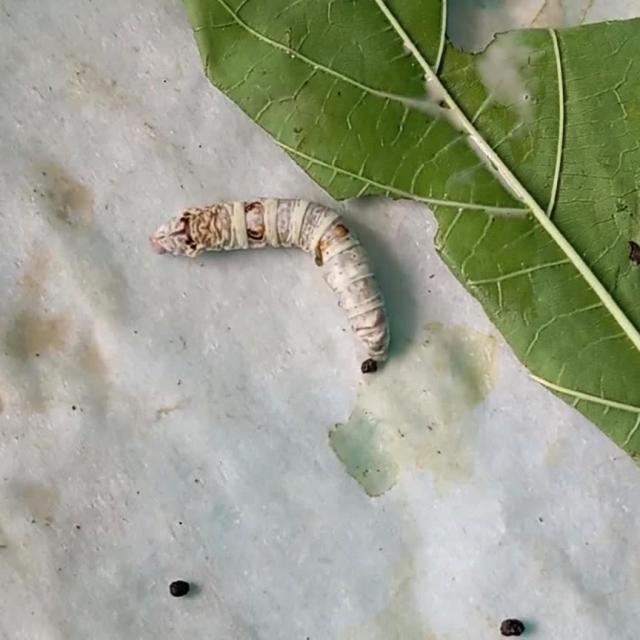Grasserie: (134, 170, 470, 402)
